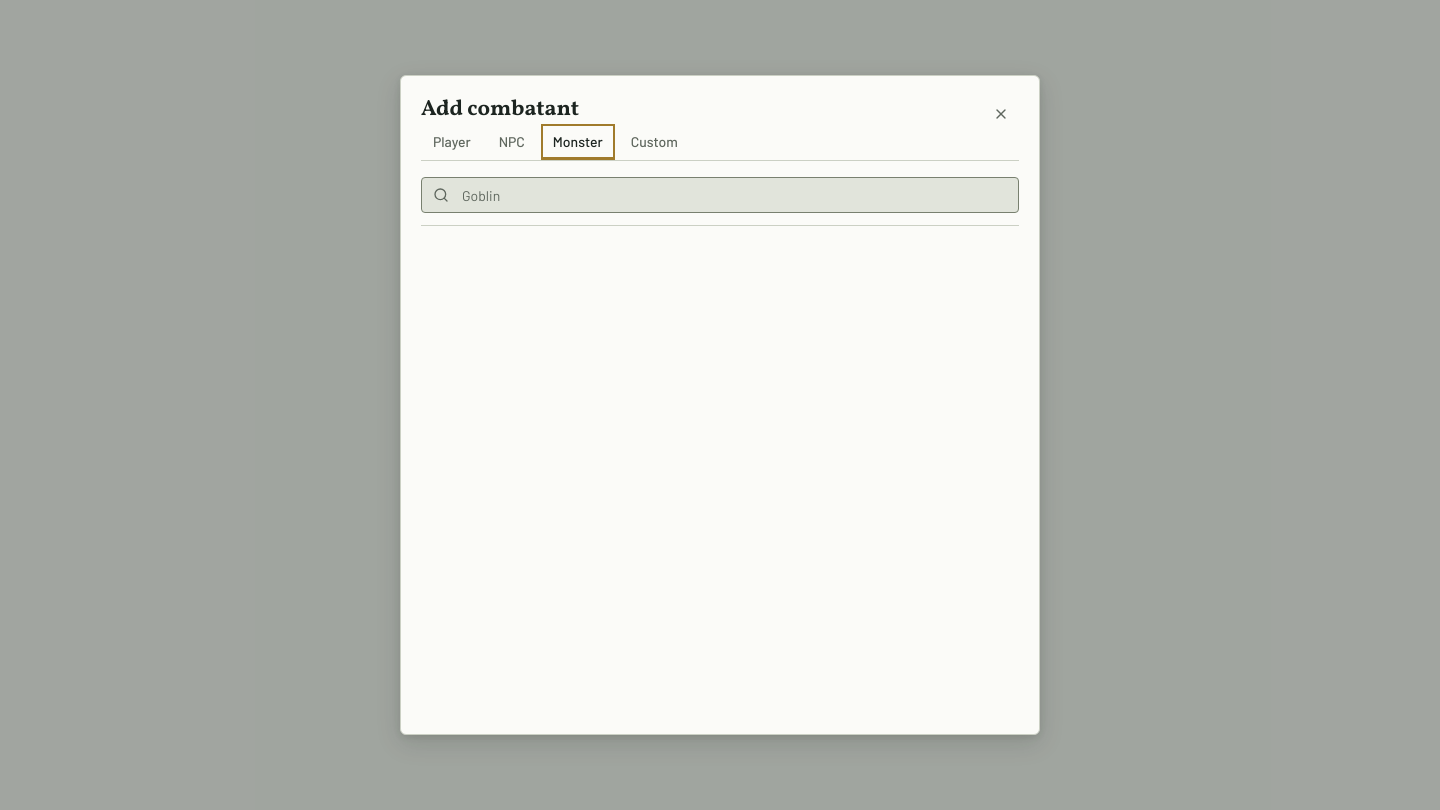
Test: AddCombatantDialog › exposes selected Custom type and disposition with visible group names
Press the mouse on the tab "Custom" at point(654, 142), box x1=619 y1=124 x2=690 y2=161
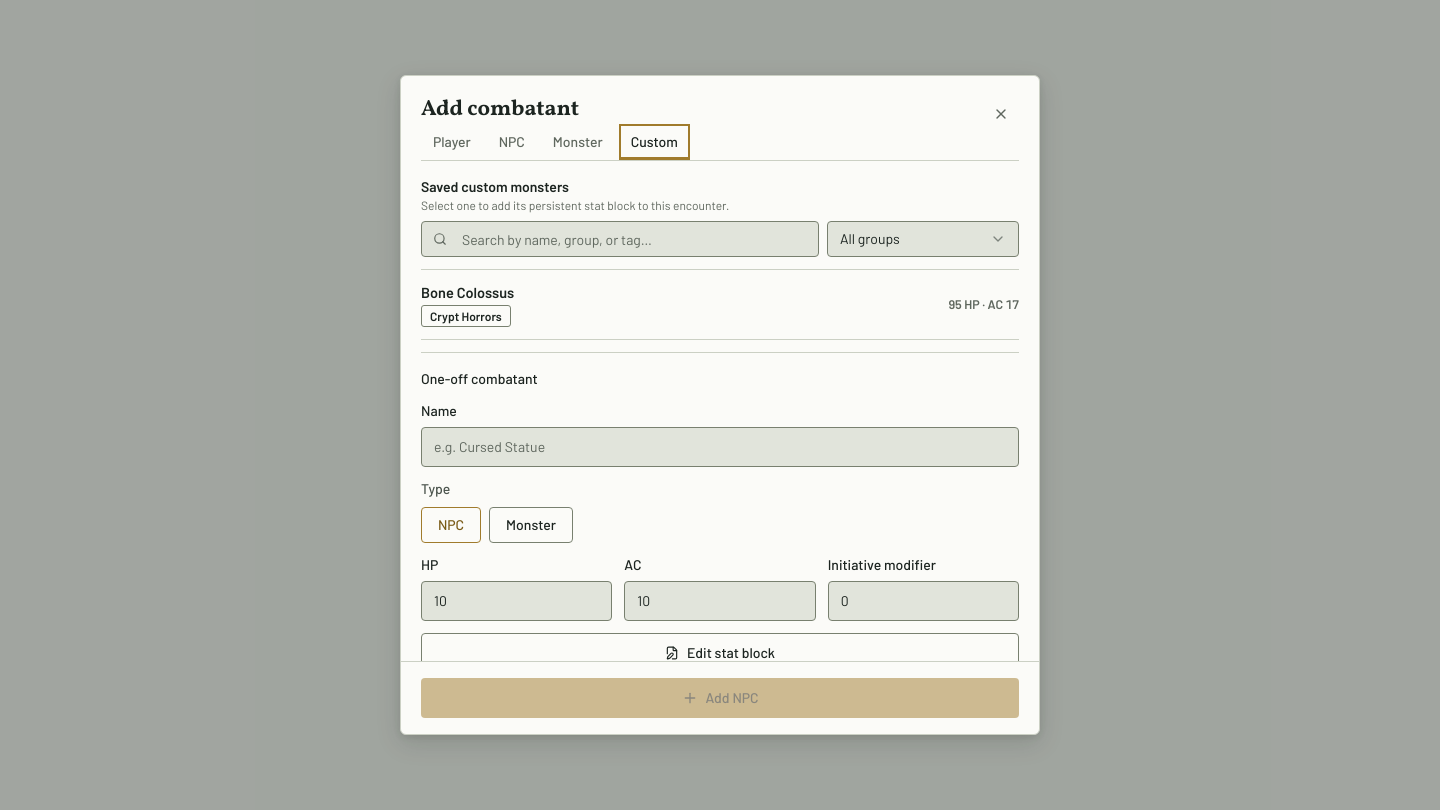
Expected: the element "Type" is shown, x1=421 y1=480 x2=573 y2=543
